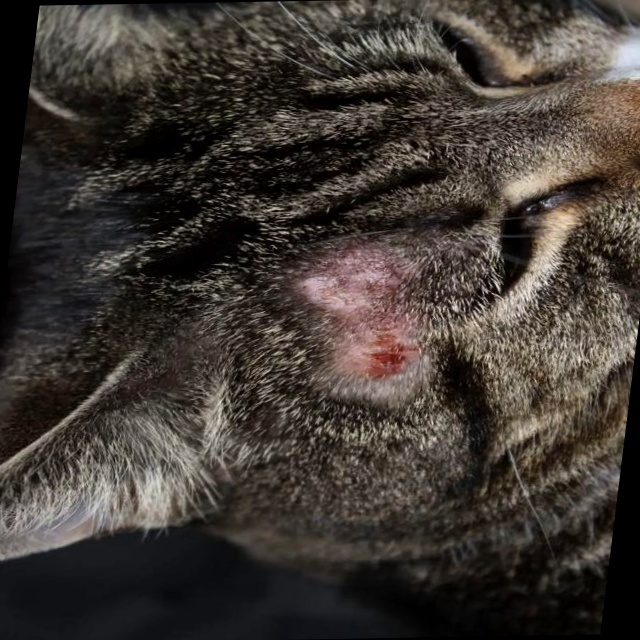ringworm: (300, 250, 427, 403)
